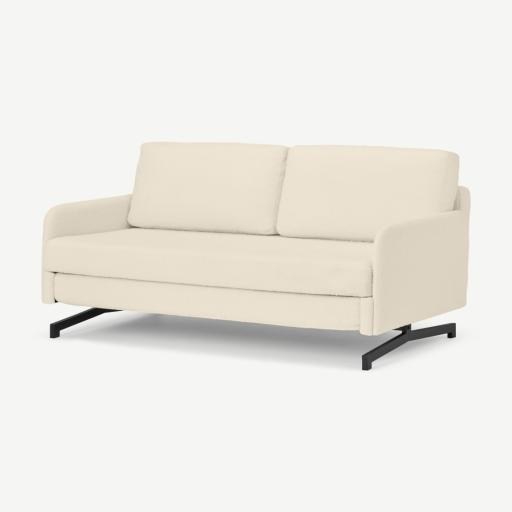back_cushion: (128, 143, 458, 241)
base: (54, 273, 372, 332)
left_arm: (359, 187, 469, 335)
legs: (362, 323, 455, 370), (50, 308, 120, 338)
right_arm: (43, 195, 131, 249), (43, 271, 53, 303)
seat_cushion: (43, 228, 372, 297)
two-seater: (0, 0, 511, 512)
